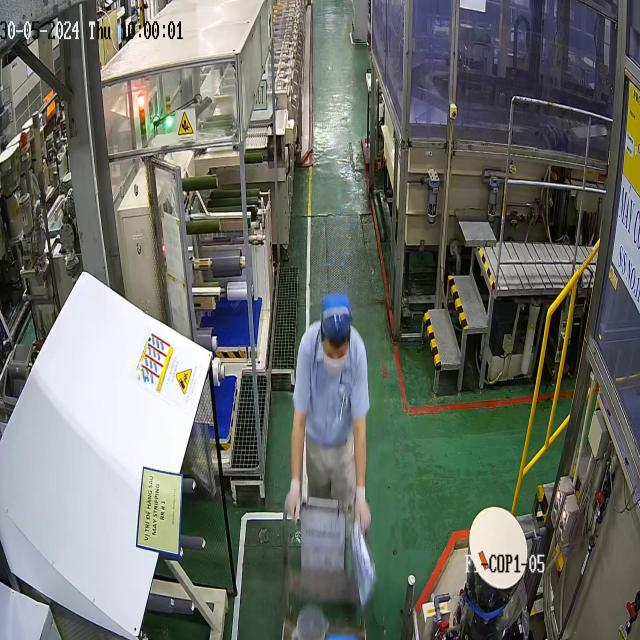Person: (284, 293, 371, 577)
